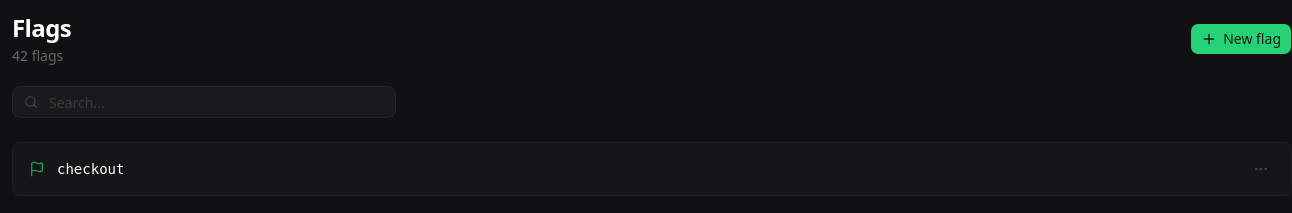
flags page header counts › shows match counts when searching from the root
Expected: the text "42 flags" is shown, [12,46,71,66]
Type "pay" into the field named "Search flags and folders" at (204, 102), box [12,86,396,118]
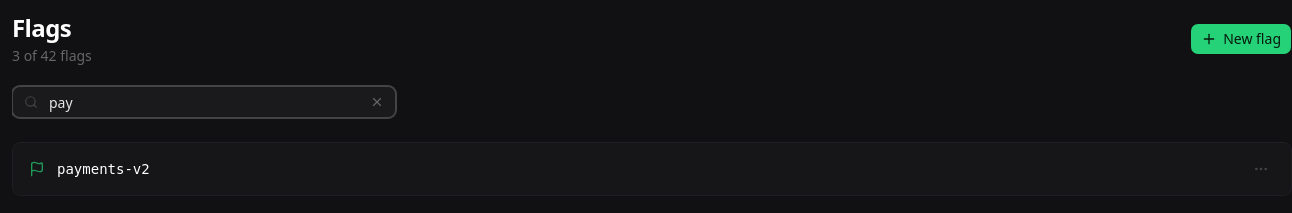
Expected: the text "3 of 42 flags" is shown, [12,46,92,66]
